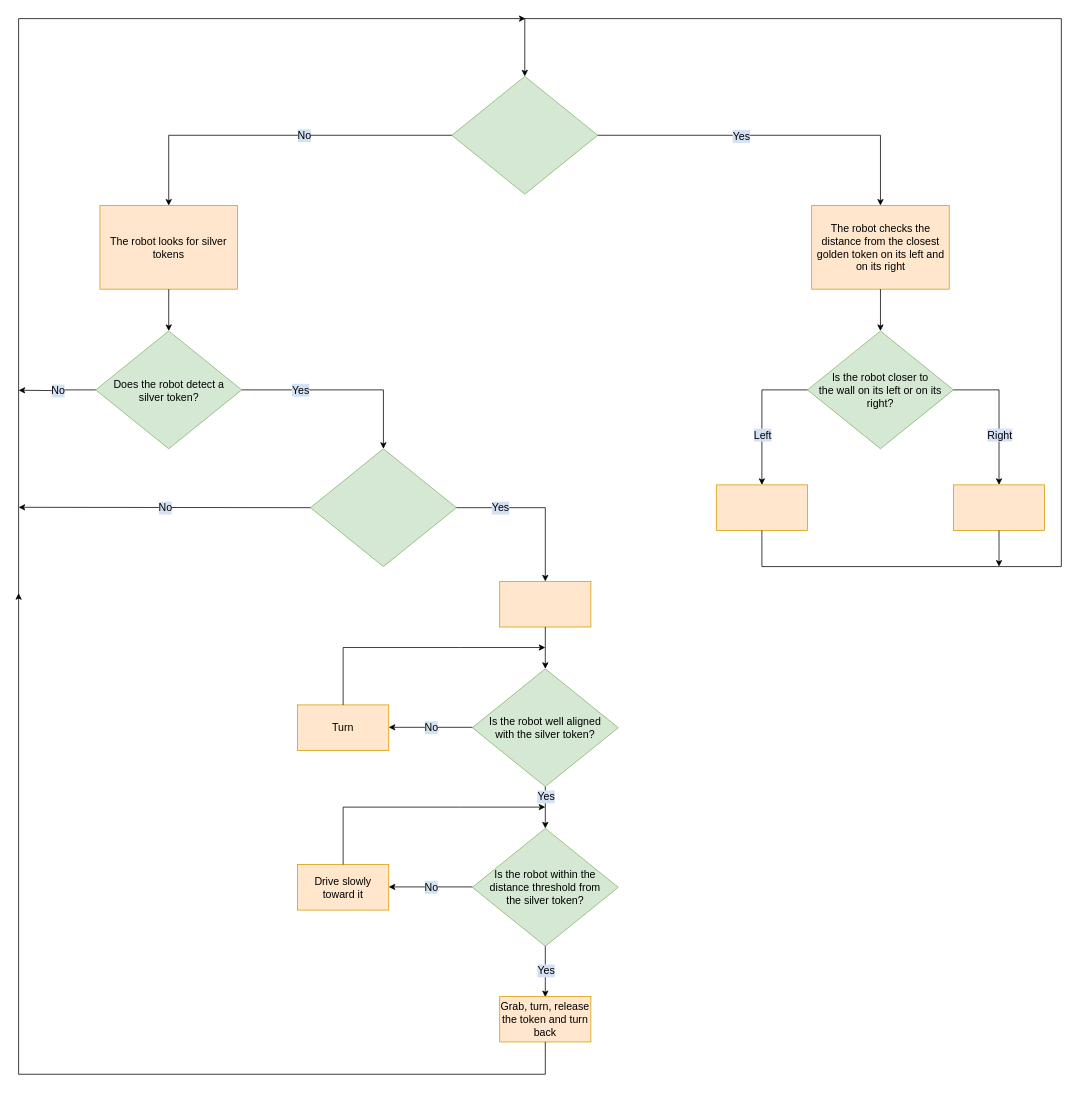
The diagram is 1081 pixels wide and 1094 high, and some of its shapes have lost their labels. The shapes that lost their labels are listed below. From the top down, each one's centre as x and y in pixels, then its label:
point (524, 135): Does the robot detect a golden token?
point (383, 507): Is the path to the silver token free of any golden token?
point (762, 507): Turn right until the wall is out of detection
point (999, 507): Turn left until the wall is out of detection
point (545, 604): The robot approaches the silver token
